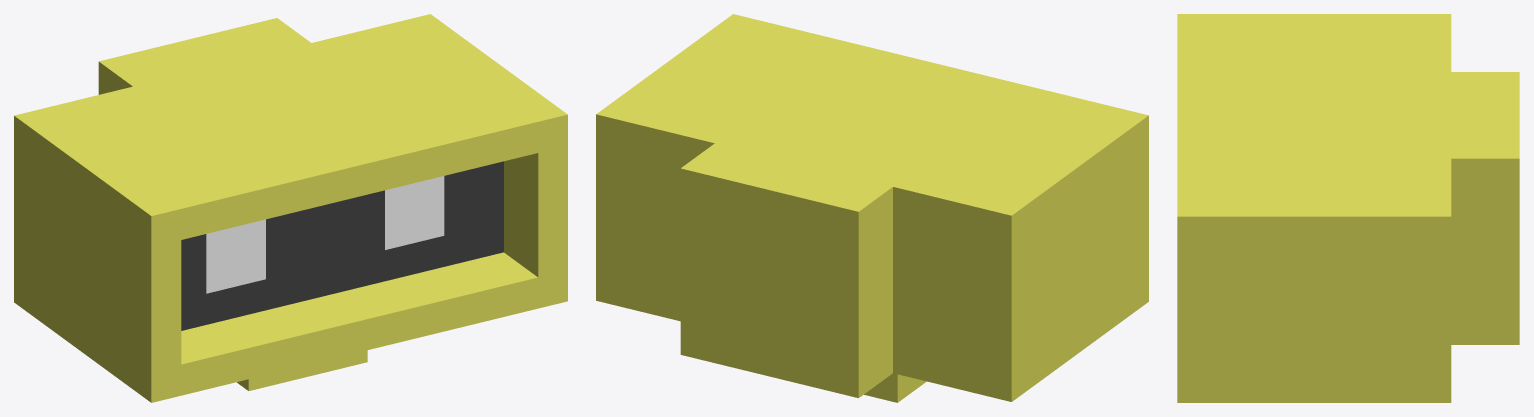
File: walle head.obj
3 renders of one model, left to right at view 1: azimuth 30°, elevation 25°; view 2: azimuth 150°, elevation 25°; view 3: azimuth 270°, elevation 25°, orthographic.
Bounding box in the file's own units: 14 × 8 × 10.
Materials: 1 (1 with a texture image).
